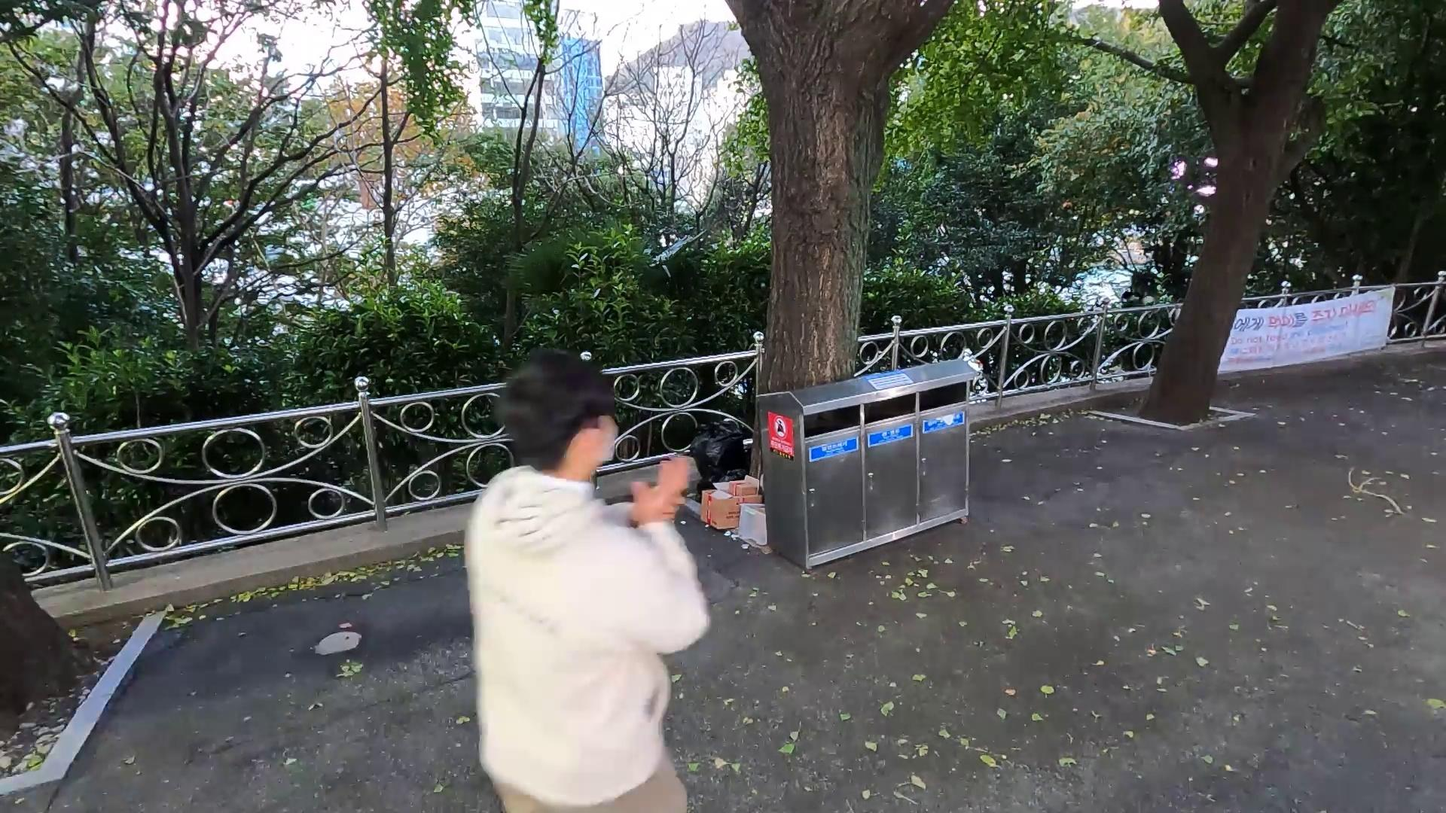person: (454, 355, 727, 813)
trash: (690, 416, 749, 486), (700, 475, 760, 534), (733, 503, 773, 553), (707, 469, 763, 503)
